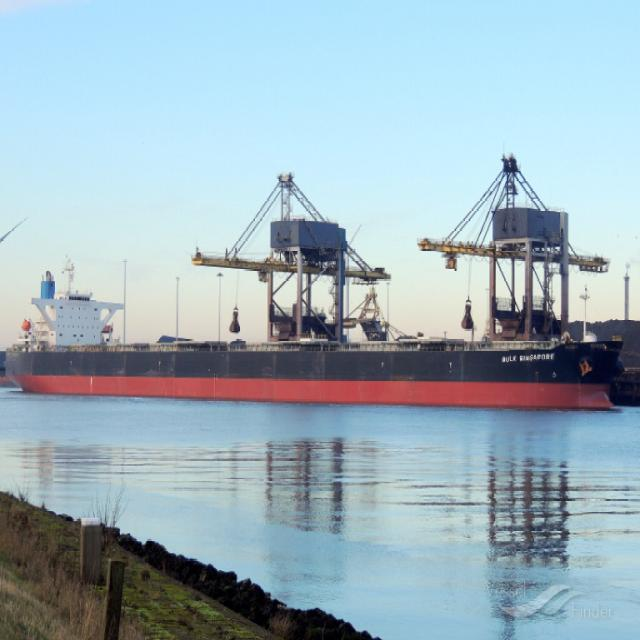OCR: (497, 350, 560, 368)
